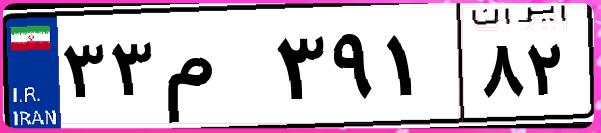1: (385, 28, 445, 110)
2: (525, 38, 570, 115)
3: (270, 28, 330, 110), (57, 26, 110, 100), (110, 28, 158, 98)
8: (475, 38, 525, 113)
9: (330, 28, 385, 110)
م: (158, 20, 270, 120)
